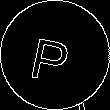P_N: (32, 26, 78, 84)
